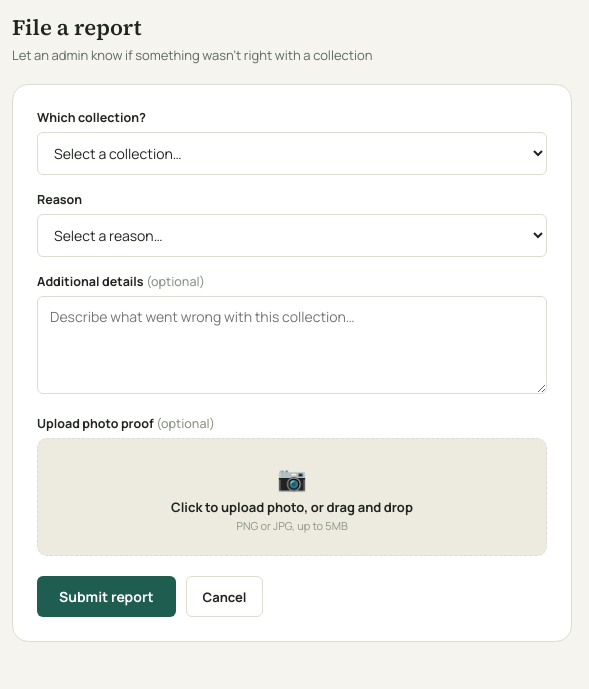
it: keeps the form filled in and shows the error when the server rejects the report
Select "Sourdough loaves — Green Leaf Café, 2026-10-15: 10:00 - 11:00" in the dropdown below "Which collection?" at (292, 154), box [37, 132, 547, 175]
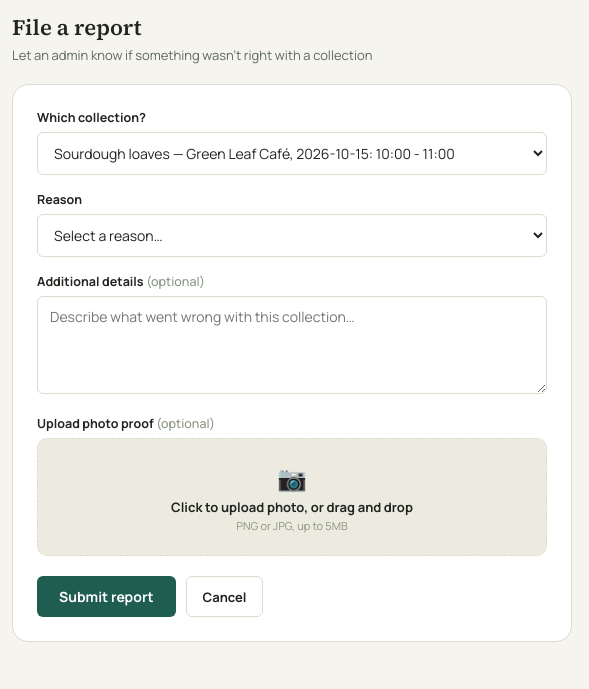
Select "Food quality issue" in the dropdown below "Reason" at (292, 236), box [37, 214, 547, 257]
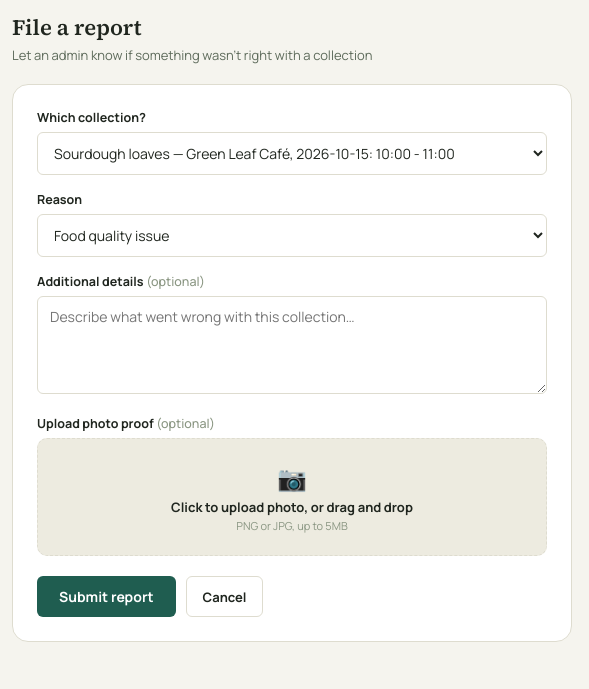
Type "  Mouldy at the bottom  " into the text box with placeholder "Describe what went wrong with this collection…" at (292, 345), box [37, 296, 547, 394]
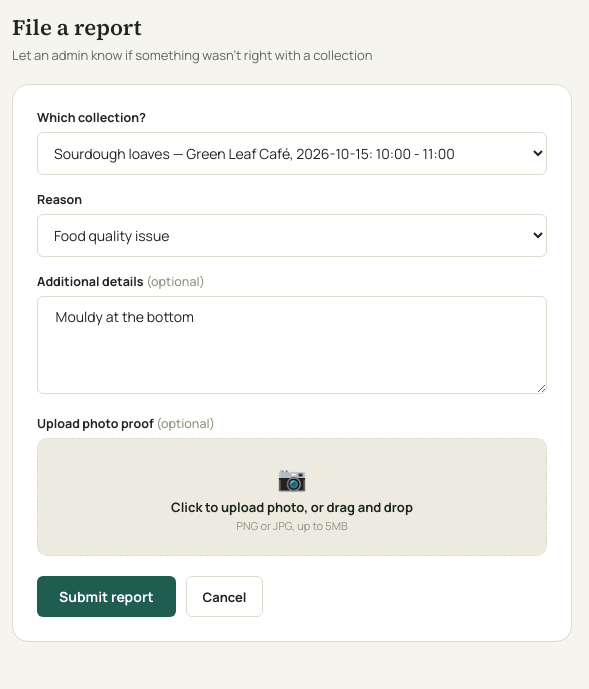
Submit the form
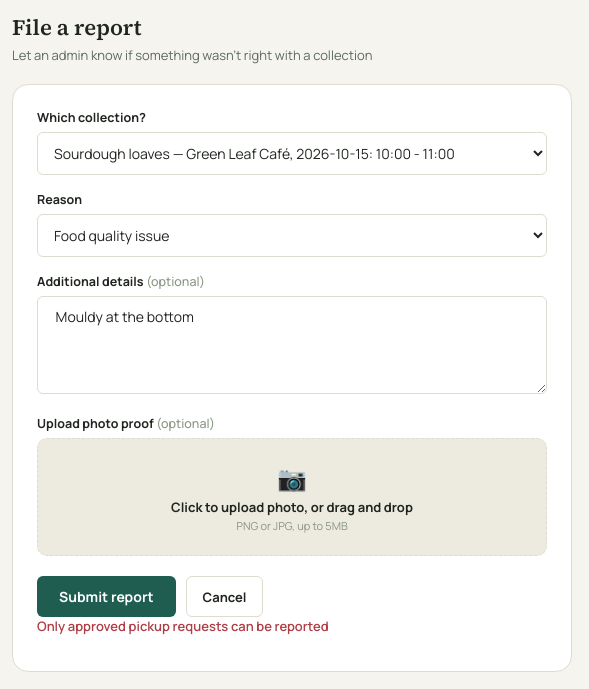
Result: the message "Only approved pickup requests can be reported" is shown at [37, 617, 329, 635]
